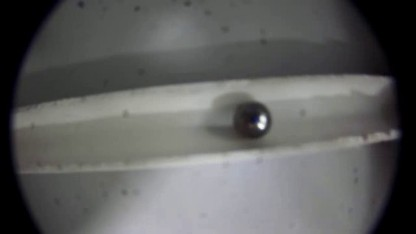gangzhu: (232, 100, 274, 139)
